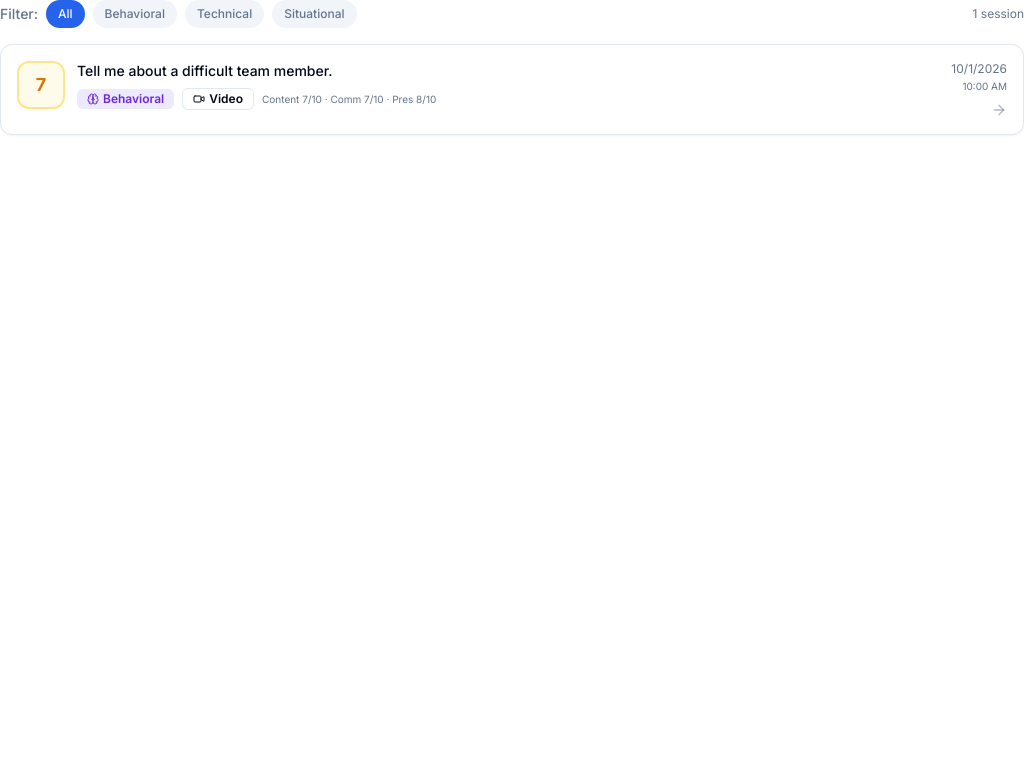
Test: #1387 ai-coaching-progress voice blocks › video session (cd.communication.voice_analysis): null → N/A muted
Click the text "Tell me about a difficult team member.".
click(205, 70)  # box [77,62,332,79]
(page scrolled)
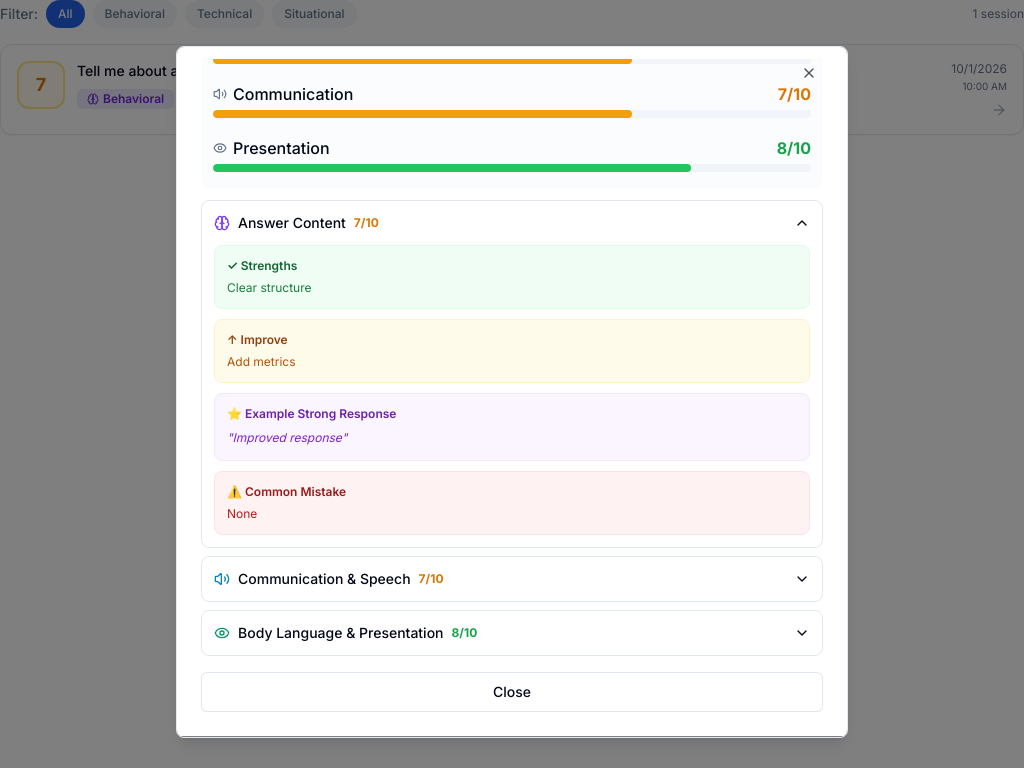
Click the button "Communication & Speech 7/10".
click(324, 578)  # box [202,557,822,601]
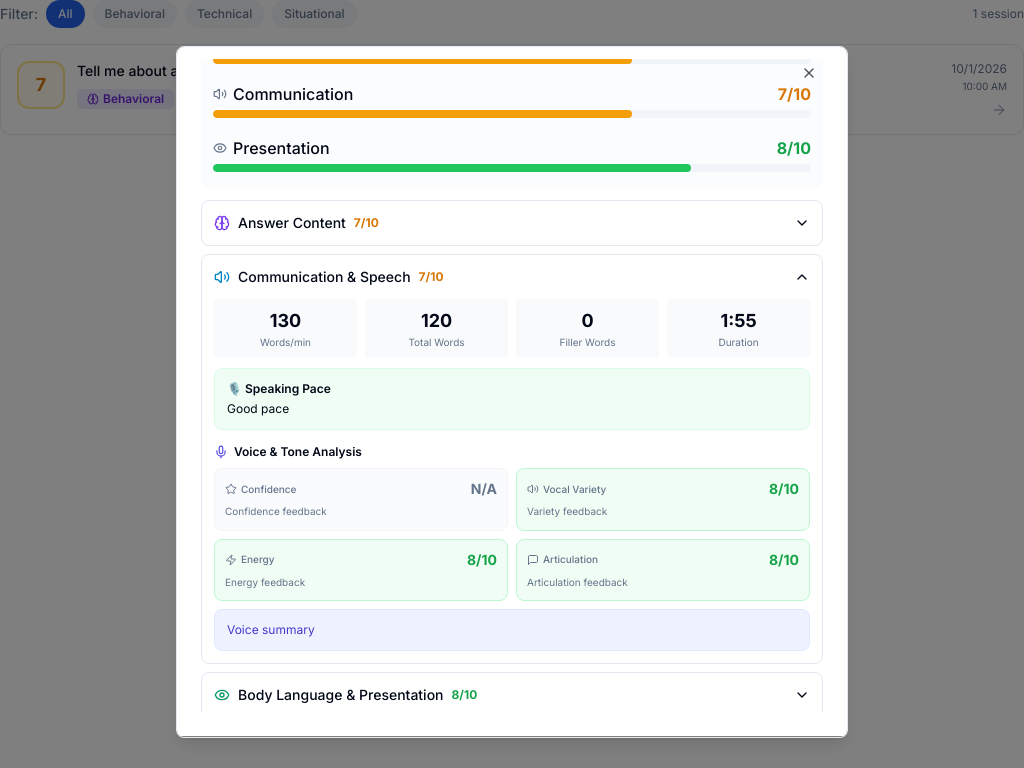
Result: the heading "Voice & Tone Analysis" is shown at [214,444,362,459]
